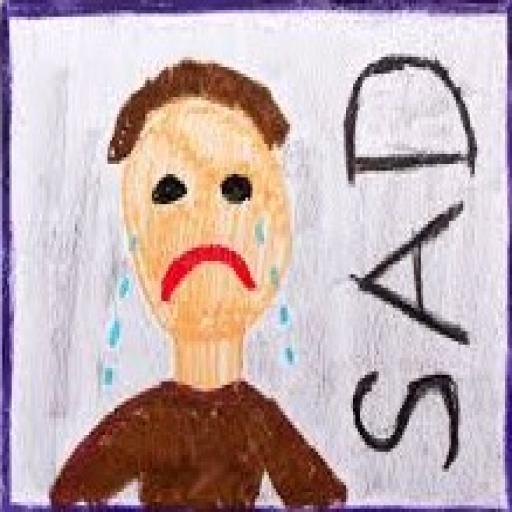person: (48, 59, 344, 509)
